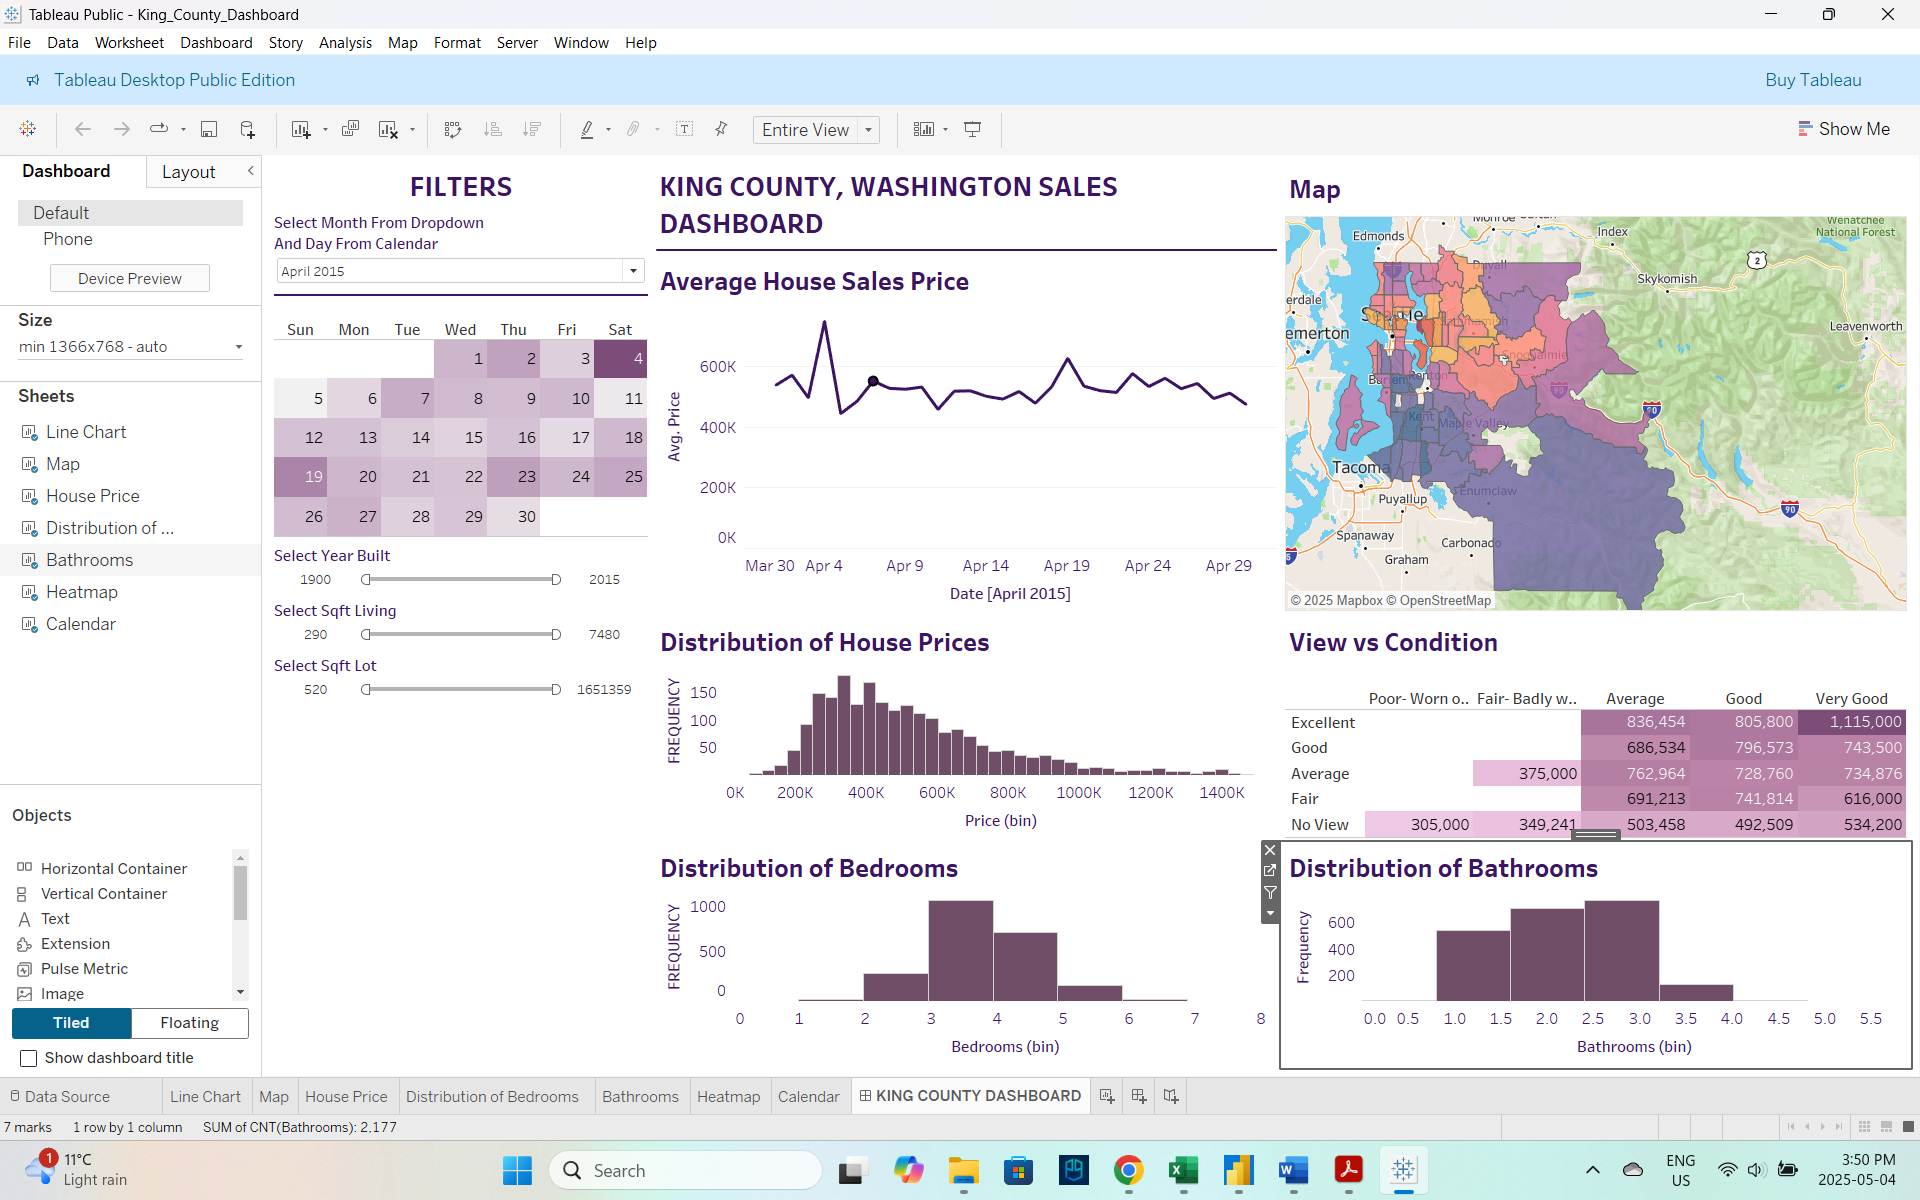

The page's visual inventory and layout, read from the dashboard file:
{"tool":"tableau","page":{"name":"KING COUNTY DASHBOARD","canvas":[1000,1000],"units":"permille","ordinal":0},"visuals":[{"type":"text","box":[4.8,8.7,230.5,48.9]},{"type":"text","box":[235.4,8.7,379.9,89]},{"type":"worksheet","title":"Map","mark":"Automatic","box":[615.3,8.7,379.9,491.3]},{"type":"filter","title":"Calendar","param":"[federated.13bejhu1ckxoiw16g6zys1x2q9ed].[my:date:ok]","box":[4.8,57.6,230.5,89]},{"type":"blank","box":[235.4,97.7,379.9,10.9]},{"type":"worksheet","title":"Line Chart","mark":"Automatic","rows":["price"],"cols":["date"],"box":[235.4,108.6,379.9,391.4]},{"type":"blank","box":[4.8,146.6,230.5,10.9]},{"type":"worksheet","title":"Calendar","mark":"Square","rows":["date"],"cols":["date"],"box":[4.8,157.5,230.5,261.7]},{"type":"filter","title":"Calendar","param":"[federated.13bejhu1ckxoiw16g6zys1x2q9ed].[none:yr_built:qk]","box":[4.8,419.1,230.5,59.7]},{"type":"filter","title":"Calendar","param":"[federated.13bejhu1ckxoiw16g6zys1x2q9ed].[none:sqft_living:qk]","box":[4.8,478.9,230.5,59.7]},{"type":"worksheet","title":"House Price","mark":"Automatic","rows":["price"],"cols":["Price (bin)"],"box":[235.4,500,379.9,245.7]},{"type":"worksheet","title":"Heatmap","mark":"Square","rows":["view"],"cols":["condition"],"box":[615.3,500,379.9,245.7]},{"type":"filter","title":"Calendar","param":"[federated.13bejhu1ckxoiw16g6zys1x2q9ed].[none:sqft_lot:qk]","box":[4.8,538.6,230.5,59.7]},{"type":"worksheet","title":"Distribution of Bedrooms","mark":"Automatic","rows":["bedrooms"],"cols":["Bedrooms (bin)"],"box":[235.4,745.7,379.9,245.7]},{"type":"worksheet","title":"Bathrooms","mark":"Automatic","rows":["bathrooms"],"cols":["Bathrooms (bin)"],"box":[615.3,745.7,379.9,245.7]}]}

Visuals, with their boxes on the dashboard's canvas, which has no fixed pixel size, in thousandths of its width and height (x1, y1, x2, y2). These are canvas units, not pixel positions in the 1920x1200 screenshot, which may show the page scaled, cropped or inside an application window:
text: detection(5, 9, 235, 58)
text: detection(235, 9, 615, 98)
"Map" worksheet: detection(615, 9, 995, 500)
"Calendar" filter: detection(5, 58, 235, 147)
blank: detection(235, 98, 615, 109)
"Line Chart" worksheet: detection(235, 109, 615, 500)
blank: detection(5, 147, 235, 158)
"Calendar" worksheet (Square marks): detection(5, 158, 235, 419)
"Calendar" filter: detection(5, 419, 235, 479)
"Calendar" filter: detection(5, 479, 235, 539)
"House Price" worksheet: detection(235, 500, 615, 746)
"Heatmap" worksheet (Square marks): detection(615, 500, 995, 746)
"Calendar" filter: detection(5, 539, 235, 598)
"Distribution of Bedrooms" worksheet: detection(235, 746, 615, 991)
"Bathrooms" worksheet: detection(615, 746, 995, 991)
